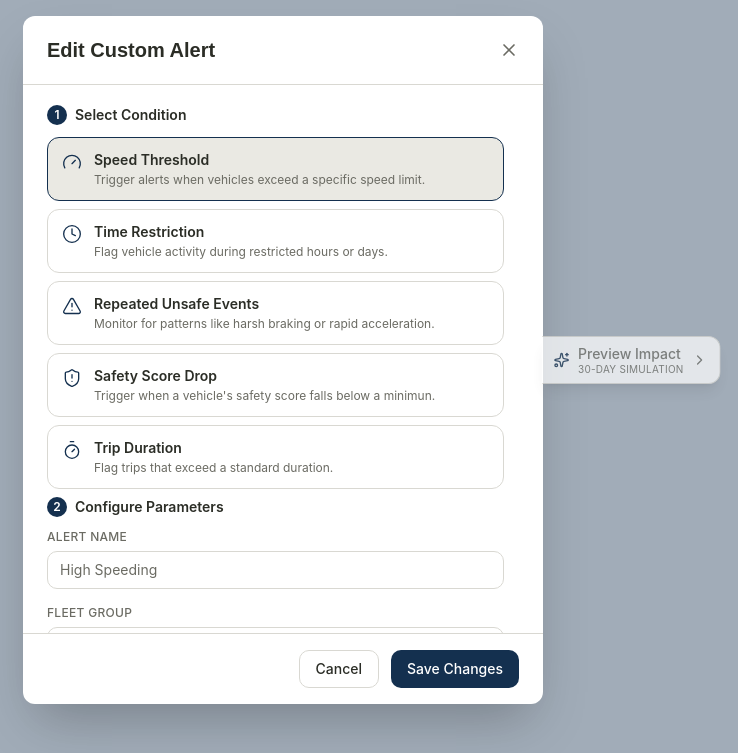
EditAlertRuleModal › shows validation errors
What coordinates should you click on to do the following:
click the button "Save Changes"
I would click on:
 (455, 669)
Its box is [391, 650, 519, 688].
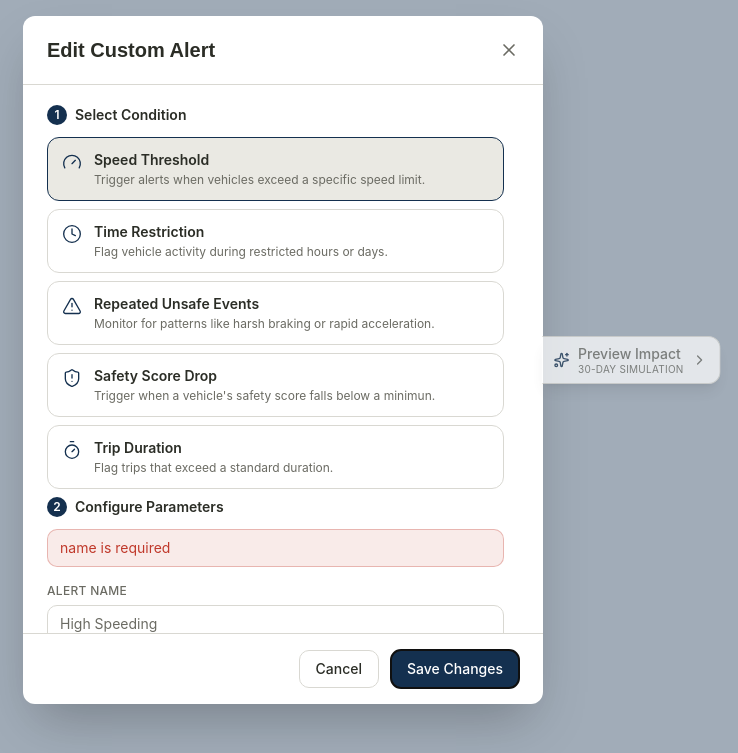
Now the text "name is required" is shown, box [47, 529, 504, 567]
